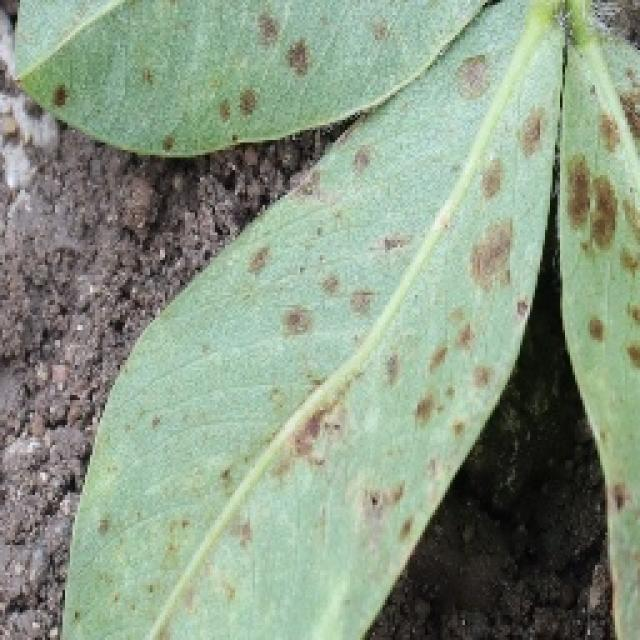Whitefly: (24, 0, 640, 585)
